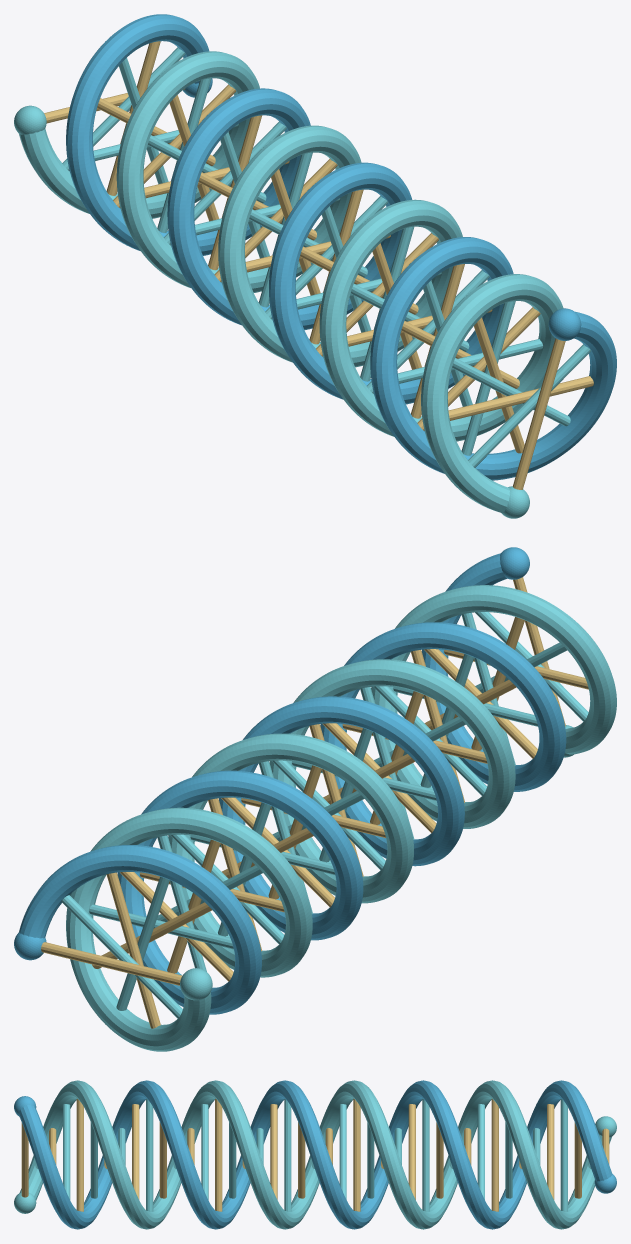
File: dna-helix.glb
The picture shows the model from 3 angles, top to bottom: view 1: azimuth 30°, elevation 25°; view 2: azimuth 150°, elevation 25°; view 3: azimuth 270°, elevation 25°; orthographic projection. The views are drawn at different scales.
Visible parts, largest first — view 1: DNA_strand_blue, DNA_strand_cyan, world, base_pair_42, base_pair_41, base_pair_40, base_pair_37, base_pair_38, base_pair_39, base_pair_36, base_pair_35, base_pair_31 (+21 smaller); view 2: DNA_strand_cyan, DNA_strand_blue, world, base_pair_00, base_pair_01, base_pair_02, base_pair_03, base_pair_05, base_pair_06, base_pair_36, base_pair_11, base_pair_31 (+14 smaller); view 3: DNA_strand_blue, DNA_strand_cyan, world, base_pair_03, base_pair_18, base_pair_38, base_pair_13, base_pair_08, base_pair_28, base_pair_23, base_pair_33, base_pair_04 (+19 smaller).
Boxes of the visible parts, x1,y1,x2,y2 form: DNA_strand_blue: [66, 14, 616, 480]; DNA_strand_cyan: [19, 51, 563, 513]; world: [14, 78, 581, 518]; base_pair_42: [512, 338, 565, 489]; base_pair_41: [468, 344, 591, 467]; base_pair_40: [448, 376, 593, 420]; base_pair_37: [461, 301, 515, 455]; base_pair_38: [474, 317, 524, 453]; base_pair_39: [452, 358, 570, 426]; base_pair_36: [417, 307, 540, 430]; base_pair_35: [397, 339, 543, 383]; base_pair_31: [367, 270, 489, 393]; DNA_strand_cyan: [66, 585, 616, 1051]; DNA_strand_blue: [19, 553, 566, 1014]; world: [14, 547, 573, 1000]; base_pair_00: [41, 942, 182, 985]; base_pair_01: [61, 895, 182, 1018]; base_pair_02: [106, 872, 160, 1028]; base_pair_03: [116, 876, 169, 1010]; base_pair_05: [89, 904, 233, 949]; base_pair_06: [120, 872, 233, 981]; base_pair_36: [424, 649, 537, 758]; base_pair_11: [170, 834, 284, 944]; base_pair_31: [373, 686, 486, 796]; DNA_strand_blue: [18, 1080, 612, 1229]; DNA_strand_cyan: [19, 1080, 611, 1229]; world: [14, 1096, 616, 1213]; base_pair_03: [560, 1099, 567, 1211]; base_pair_18: [353, 1098, 360, 1211]; base_pair_38: [76, 1099, 83, 1211]; base_pair_13: [422, 1098, 429, 1211]; base_pair_08: [491, 1099, 498, 1211]; base_pair_28: [215, 1098, 222, 1211]; base_pair_23: [284, 1099, 291, 1211]; base_pair_33: [146, 1099, 153, 1211]; base_pair_04: [547, 1104, 554, 1199].
Bounding box in the file's own units: 3.16 × 3.08 × 12.46.
